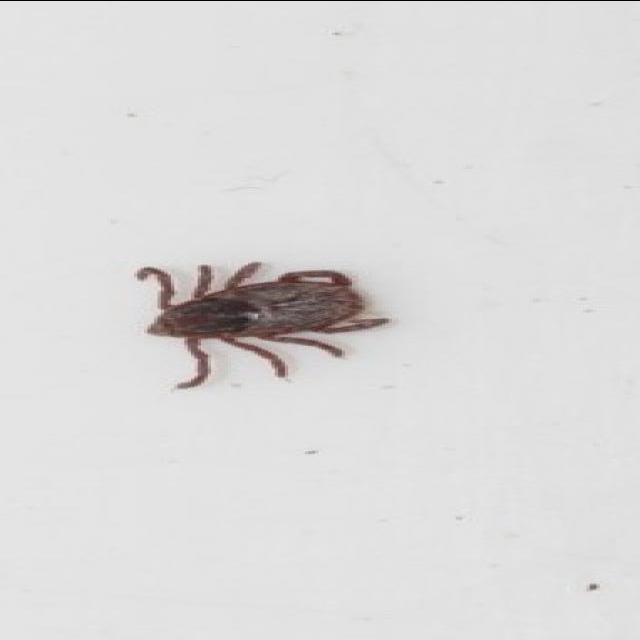Rhipicephalus Sanguineus-F: (137, 262, 389, 390)
